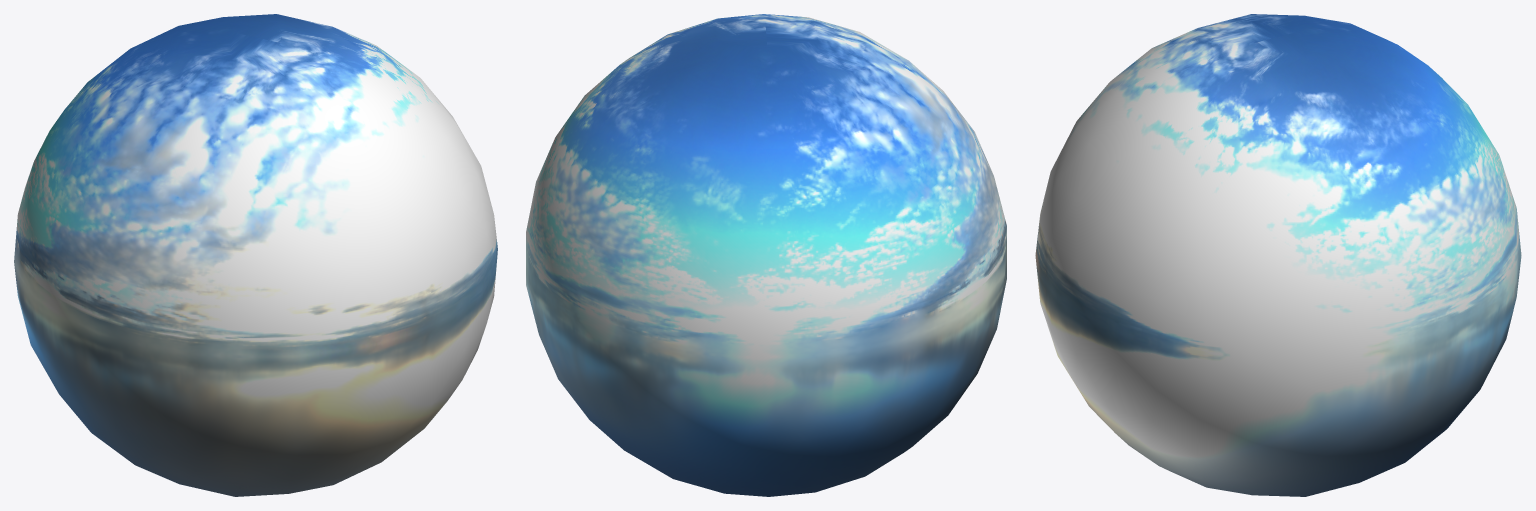
Rendered from envmap.obj.
The picture shows the model from 3 angles, left to right: view 1: azimuth 30°, elevation 25°; view 2: azimuth 150°, elevation 25°; view 3: azimuth 270°, elevation 25°; orthographic projection.
Bounding box in the file's own units: 0.9942 × 0.9924 × 1.
